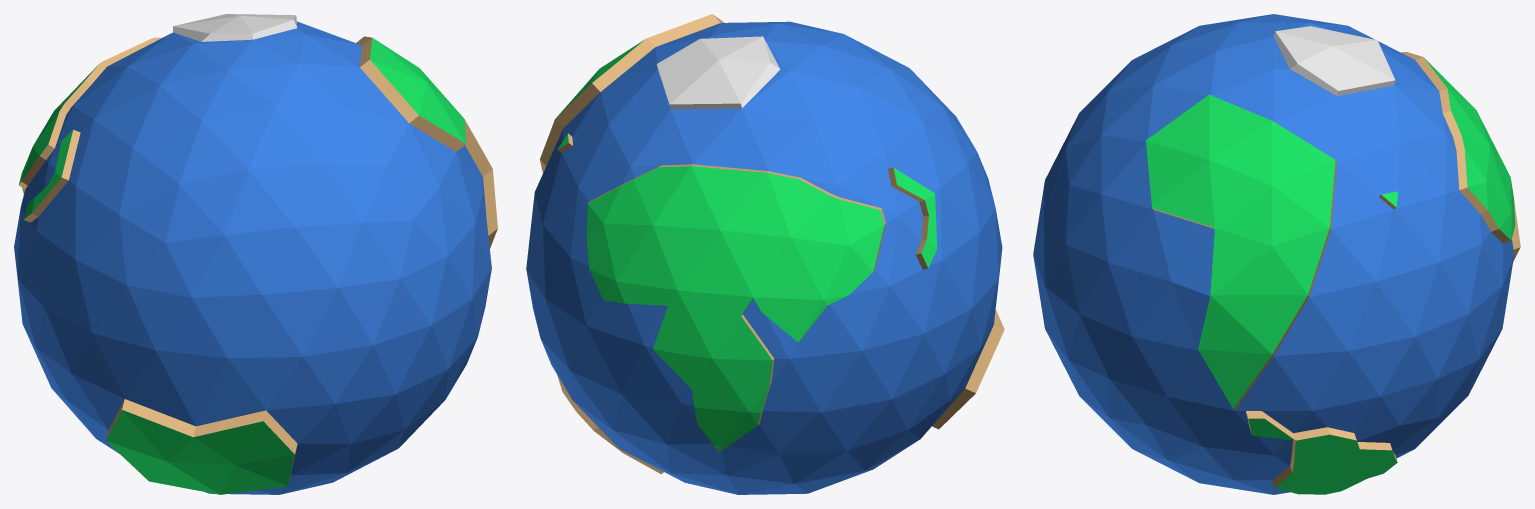
Rendered from earth.fbx.
3 views of the same model, side by side, from view 1: azimuth 30°, elevation 25°; view 2: azimuth 150°, elevation 25°; view 3: azimuth 270°, elevation 25° (orthographic).
Visible parts, largest first — view 1: Icosphere; view 2: Icosphere; view 3: Icosphere.
Part boxes in pixels (x1,y1,x2,y2): Icosphere: [14, 14, 497, 494]; Icosphere: [526, 14, 1004, 494]; Icosphere: [1033, 14, 1520, 494].
Size of the model in its own units: 2044 by 2025 by 2027.
